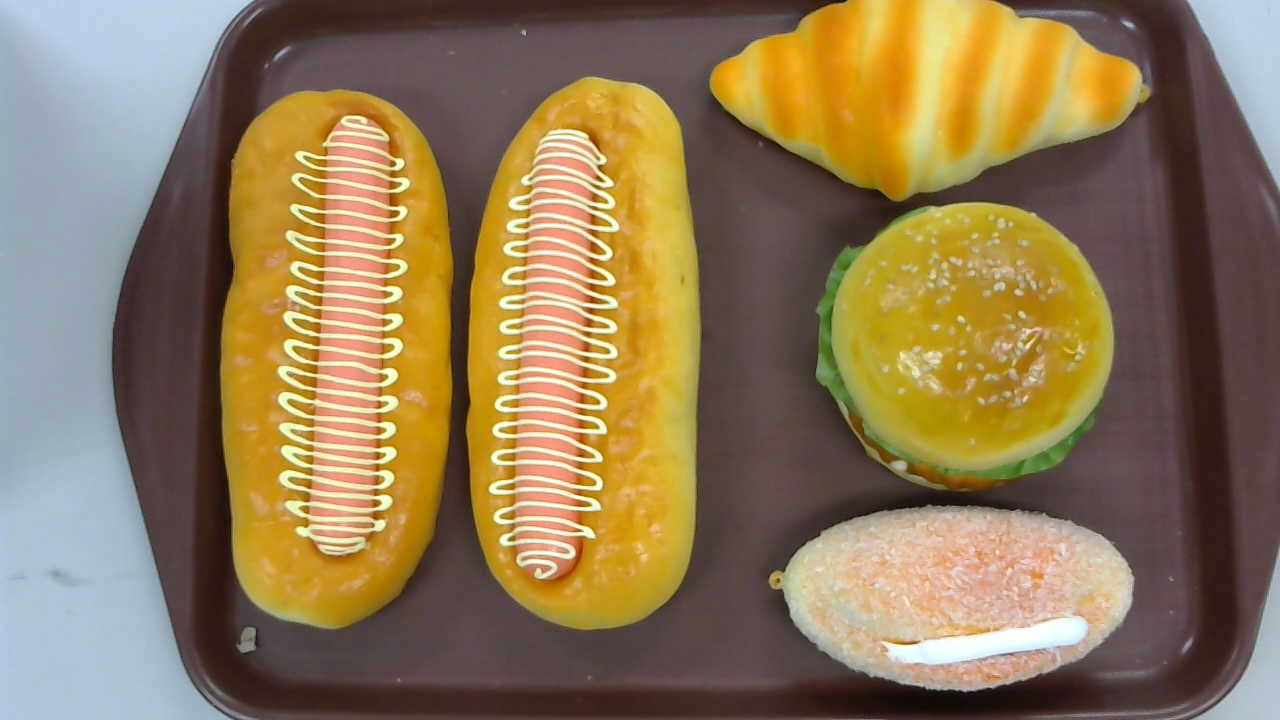coconut: (768, 503, 1135, 691)
croissant: (708, 1, 1152, 202)
hamburger: (815, 203, 1113, 492)
hot dog: (464, 77, 701, 630), (220, 89, 452, 631)
